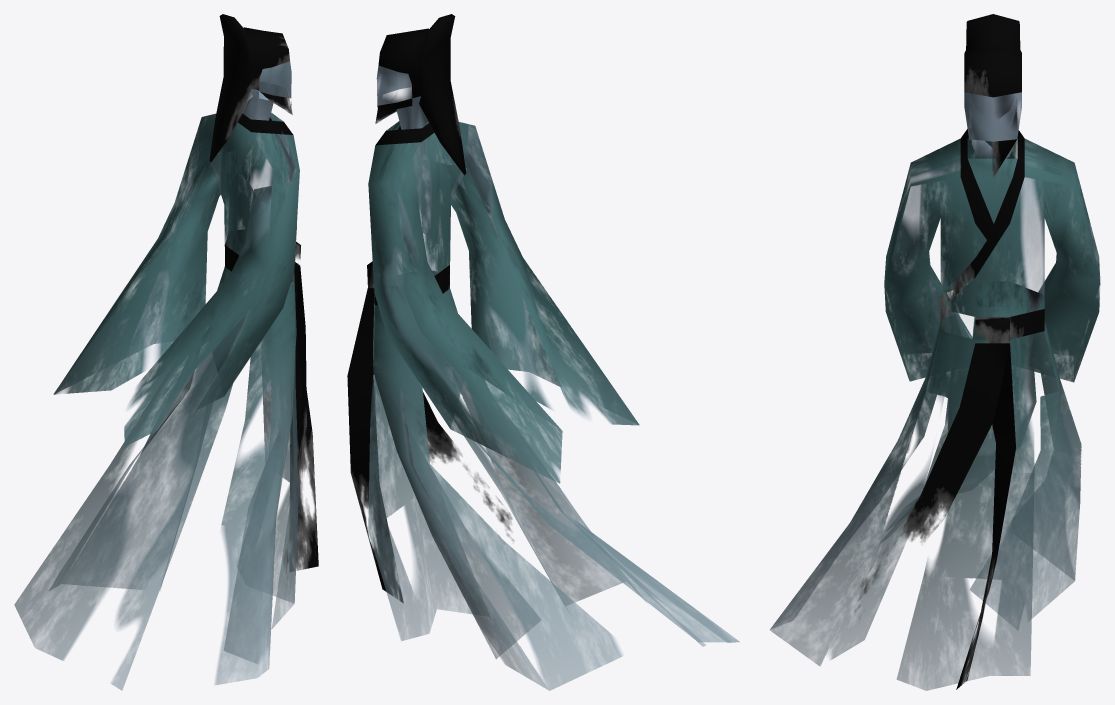
The model's file is person.glb.
The picture shows the model from 3 angles, left to right: view 1: azimuth 30°, elevation 25°; view 2: azimuth 150°, elevation 25°; view 3: azimuth 270°, elevation 25°; orthographic projection. The views are drawn at different scales.
Visible parts, largest first — view 1: 立方体.005, 立方体.006, 立方体.002; view 2: 立方体.005, 立方体.006, 立方体.002; view 3: 立方体.005, 立方体.006, 立方体.002.
Boxes of the visible parts, x1,y1,x2,y2 form: 立方体.005: [14, 251, 318, 690]; 立方体.006: [53, 113, 300, 446]; 立方体.002: [209, 14, 292, 161]; 立方体.005: [347, 270, 739, 690]; 立方体.006: [367, 121, 639, 483]; 立方体.002: [375, 14, 466, 175]; 立方体.005: [770, 307, 1081, 690]; 立方体.006: [884, 129, 1100, 382]; 立方体.002: [964, 14, 1021, 177].
Bounding box in the file's own units: 5.54 × 9.77 × 4.35.
6 materials, 6 textured.
